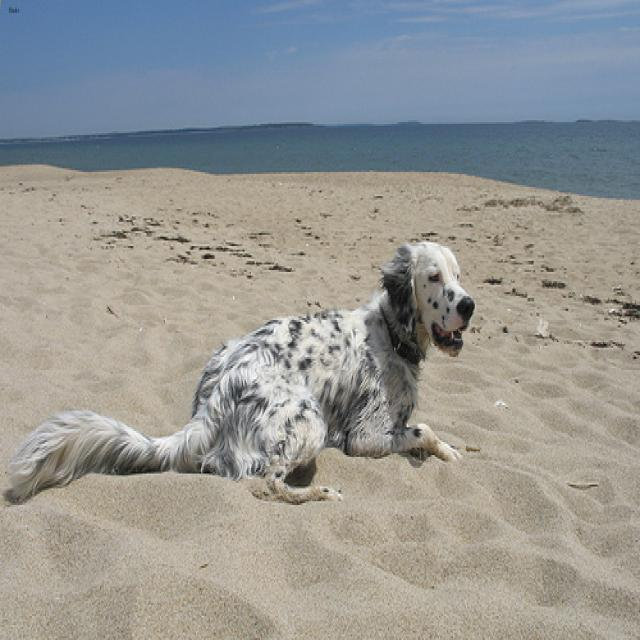dog-english_setter: (4, 228, 477, 511)
